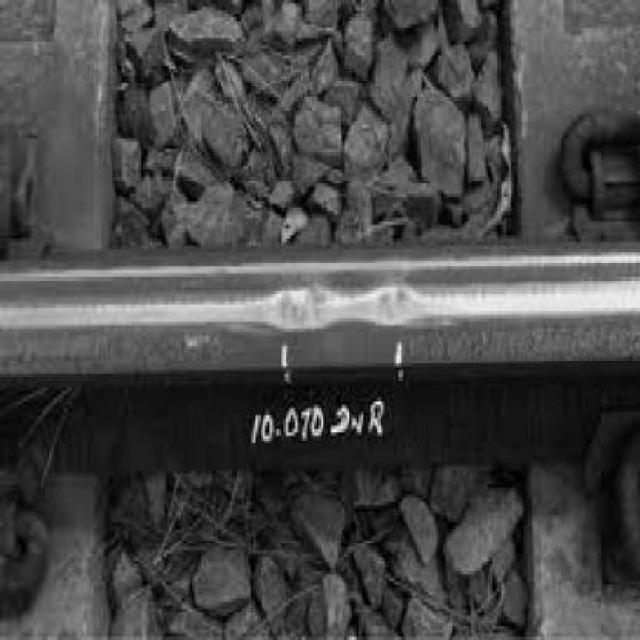defective: (0, 224, 640, 469)
